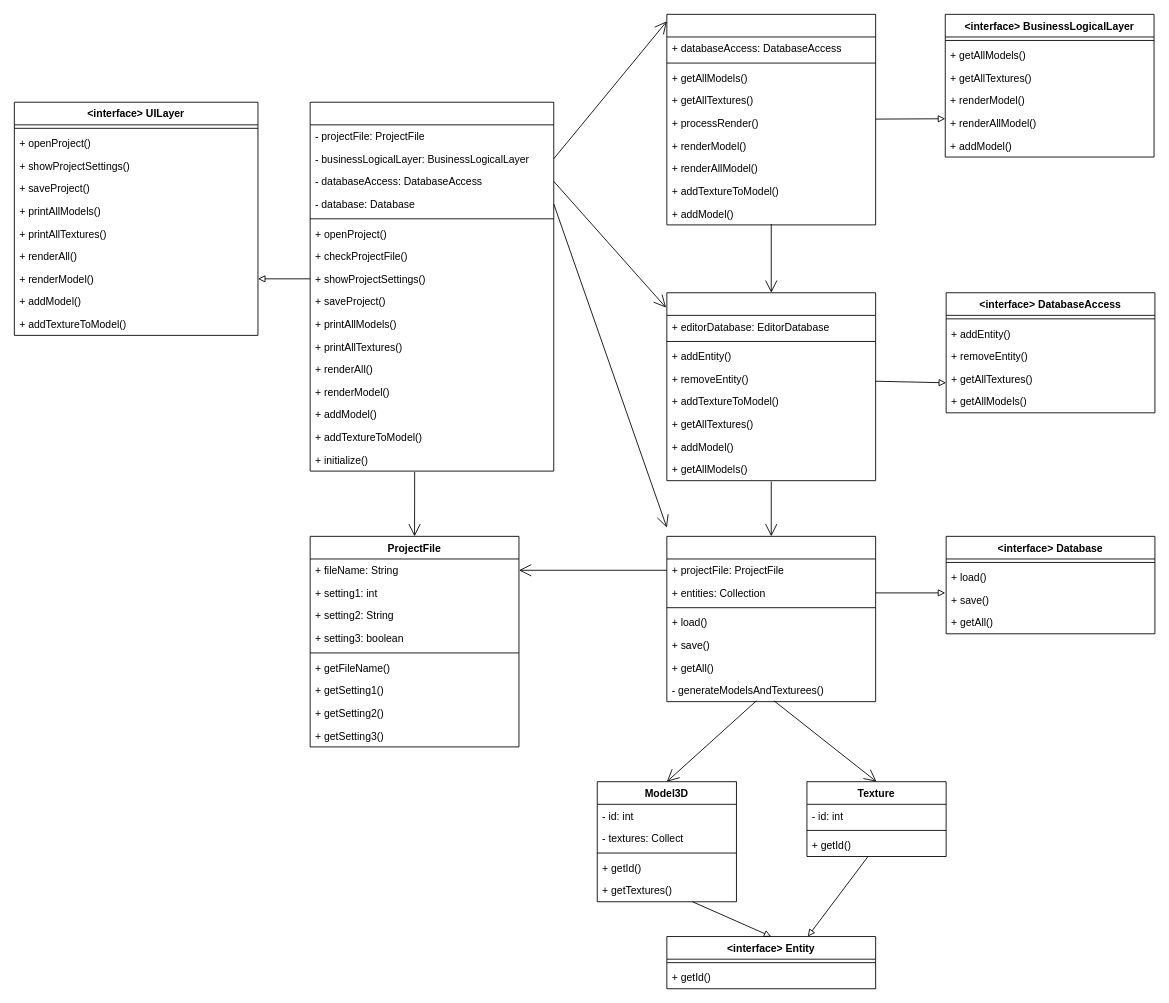
This 1169x1003 diagram has some shape labels left out. Here are the shapes that lost their labels. From the top down, the box of each, then its label:
(666, 13, 876, 225): EditorBusinessLogicalLayer
(309, 101, 554, 471): Editor3D
(666, 292, 876, 481): EditorDatabaseAccess
(666, 535, 876, 702): EditorDatabase
